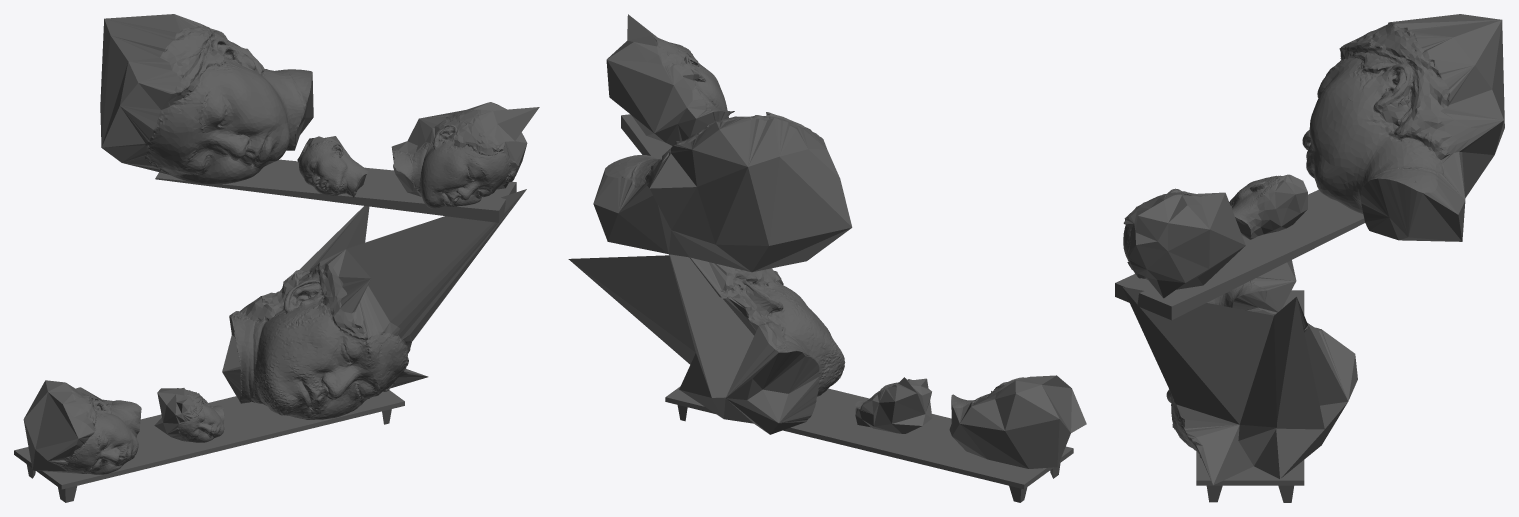
Rendered from 04_jang.glb.
3 views of the same model, side by side, from view 1: azimuth 30°, elevation 25°; view 2: azimuth 150°, elevation 25°; view 3: azimuth 270°, elevation 25° (orthographic). The views are drawn at different scales.
Visible parts, largest first — view 1: Anminhwan; view 2: Anminhwan; view 3: Anminhwan.
Part boxes in pixels (bbox=[...]): Anminhwan: bbox=[14, 14, 539, 502]; Anminhwan: bbox=[568, 14, 1086, 502]; Anminhwan: bbox=[1115, 14, 1504, 502].
Bounding box in the file's own units: 63.91 × 46.83 × 40.79.
1 material, 1 textured.
